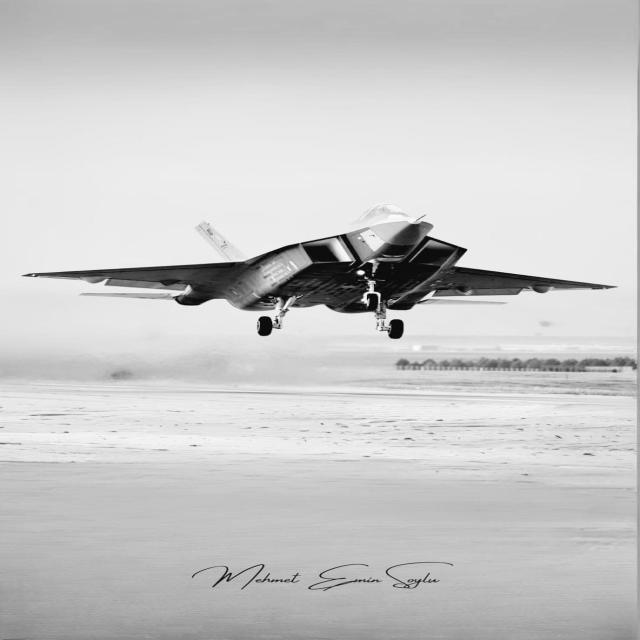iha: (6, 205, 614, 339)
